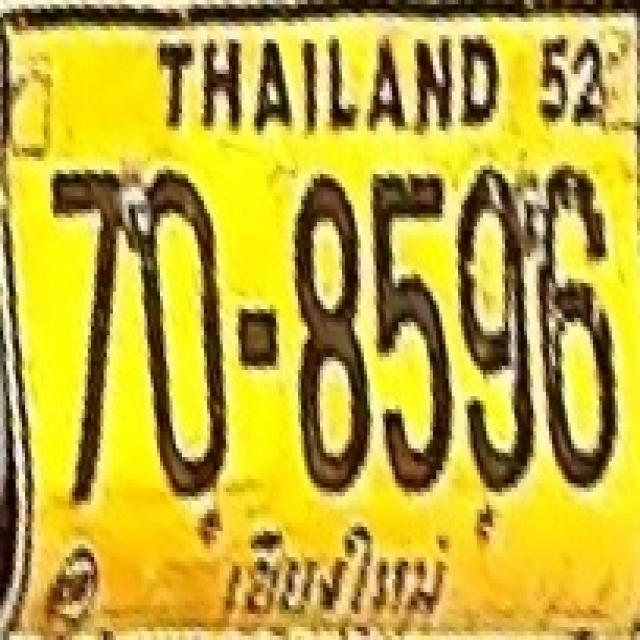0: (130, 166, 228, 497), (455, 165, 531, 496)
5: (370, 170, 452, 492)
6: (530, 163, 618, 490)
7: (50, 166, 128, 509)
8: (293, 172, 372, 494)
CMI: (213, 519, 453, 621)
